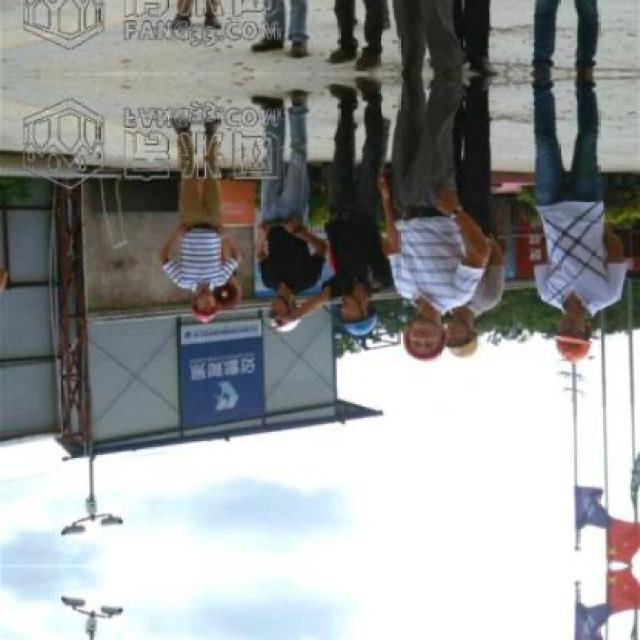con casco: (308, 271, 394, 342), (543, 268, 598, 364), (383, 292, 457, 363), (253, 267, 313, 335), (188, 263, 224, 314)
